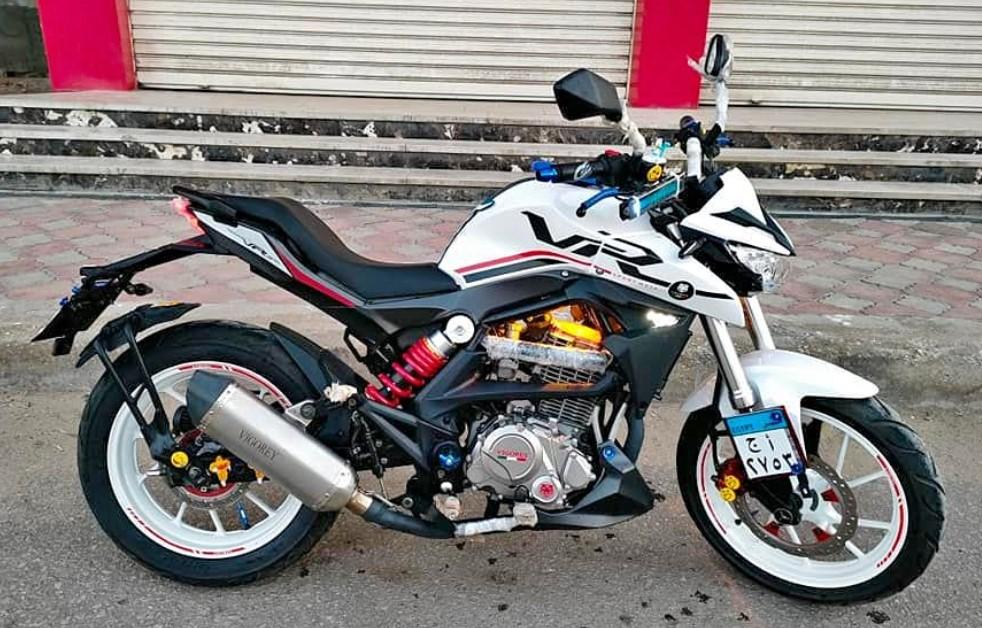License Plate: (720, 410, 817, 479)
